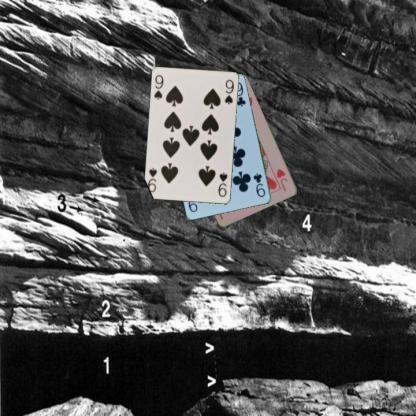9c: (251, 170, 267, 199)
9s: (215, 170, 229, 198), (152, 72, 164, 102)
Jh: (274, 166, 289, 193)
